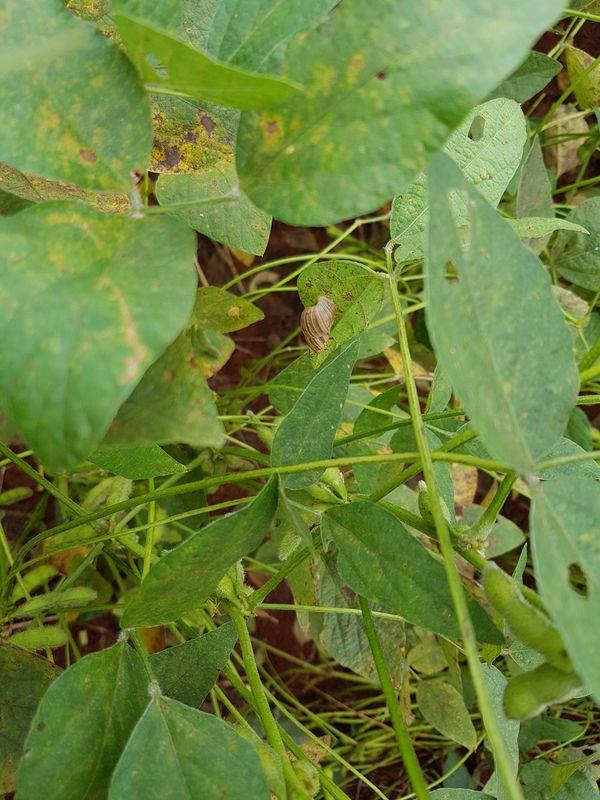Gastropoda: (293, 293, 343, 357)
